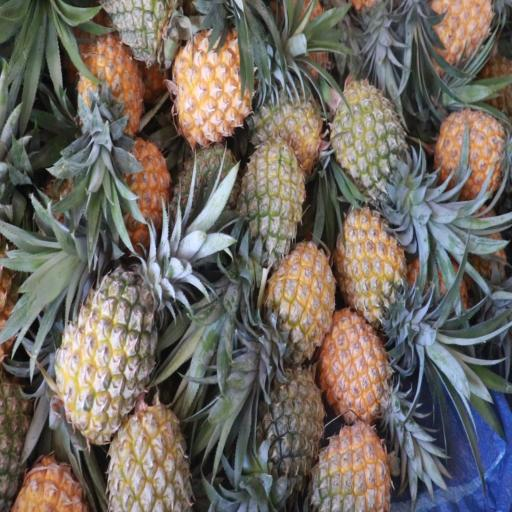------------------------------: (58, 272, 156, 437), (108, 403, 190, 512), (254, 72, 324, 167)
Pineapple - v8 v1: (170, 34, 256, 138), (338, 208, 412, 322), (320, 314, 390, 426), (435, 101, 508, 199), (76, 34, 142, 138), (270, 243, 334, 350), (426, 0, 500, 76), (114, 140, 170, 238)
